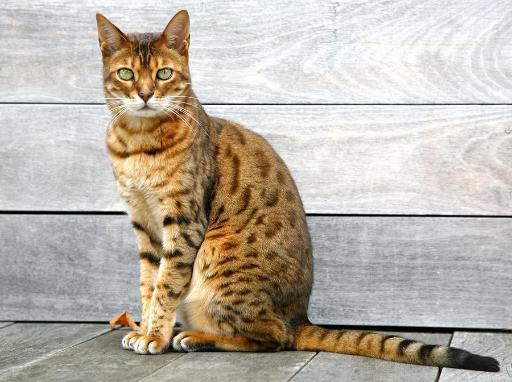cat_sitting: (96, 10, 498, 371)
